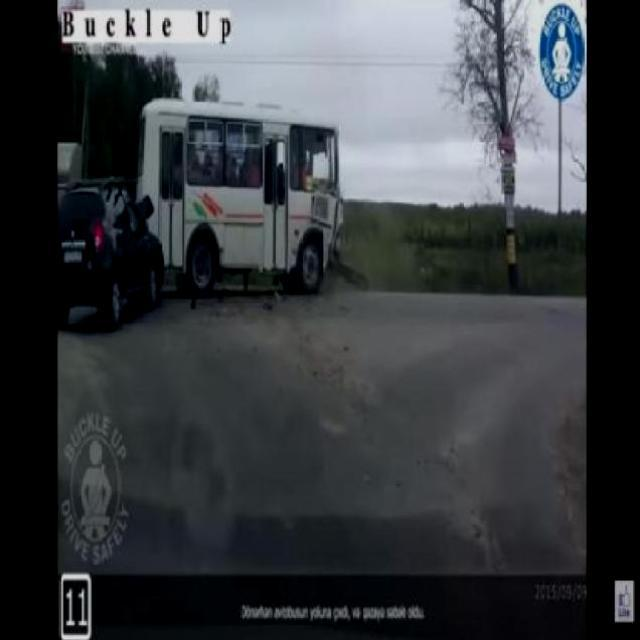accident: (49, 93, 349, 328)
